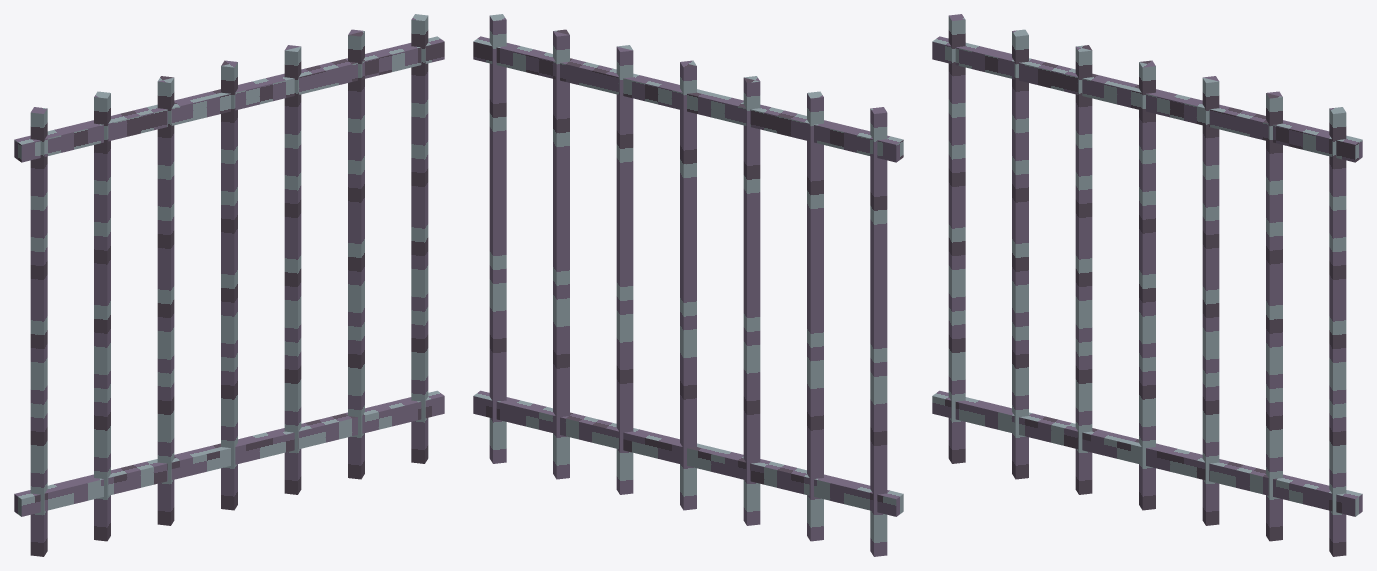
File: a17_corrente_com_gancho.glb
The picture shows the model from 3 angles, left to right: view 1: azimuth 30°, elevation 25°; view 2: azimuth 150°, elevation 25°; view 3: azimuth 330°, elevation 25°; orthographic projection.
Parts seen in each view (by area): view 1: a17_corrente_com_gancho; view 2: a17_corrente_com_gancho; view 3: a17_corrente_com_gancho.
Boxes of the visible parts, x1,y1,x2,y2 form: a17_corrente_com_gancho: [14, 14, 444, 556]; a17_corrente_com_gancho: [473, 14, 903, 556]; a17_corrente_com_gancho: [932, 14, 1362, 556].
Bounding box in the file's own units: 2 × 2 × 0.08.
1 material, 1 textured.
